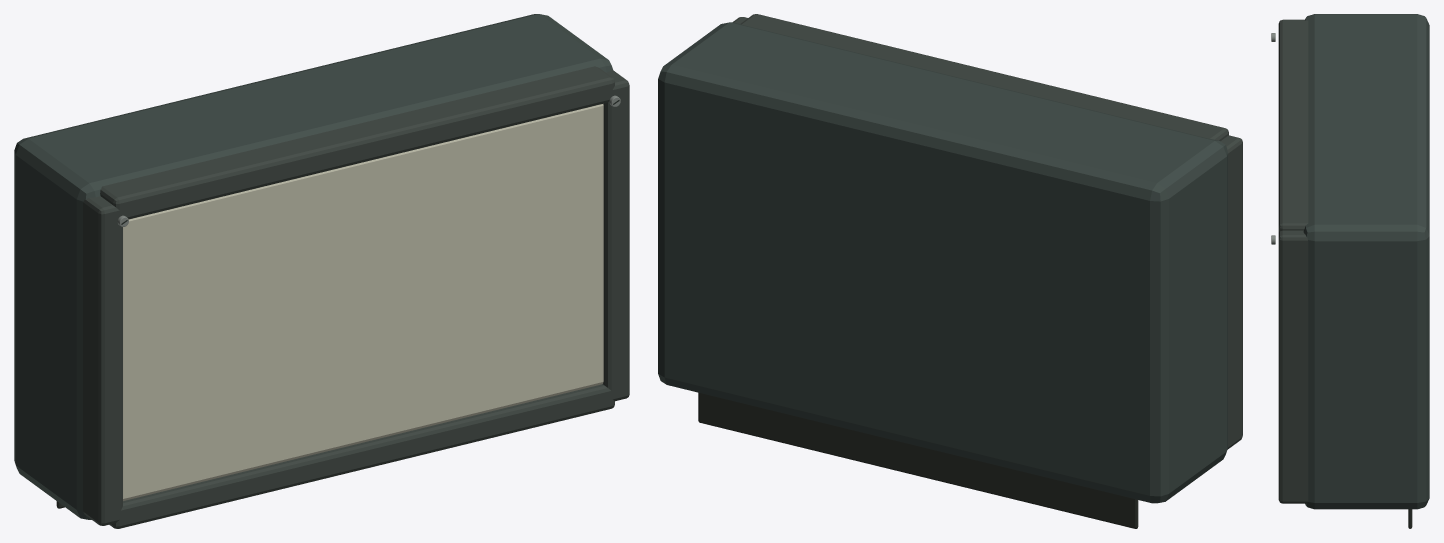
File: THERMAL_Housing.fbx
3 renders of one model, left to right at view 1: azimuth 30°, elevation 25°; view 2: azimuth 150°, elevation 25°; view 3: azimuth 270°, elevation 25°, orthographic. The views are drawn at different scales.
Visible parts, largest first — view 1: THERMAL_Housing_EXPORT; view 2: THERMAL_Housing_EXPORT; view 3: THERMAL_Housing_EXPORT.
Boxes of the visible parts, x1,y1,x2,y2 form: THERMAL_Housing_EXPORT: [14, 14, 629, 528]; THERMAL_Housing_EXPORT: [658, 14, 1242, 528]; THERMAL_Housing_EXPORT: [1271, 14, 1429, 528].
Size of the model in its own units: 0.508 by 0.338 by 0.1543.
